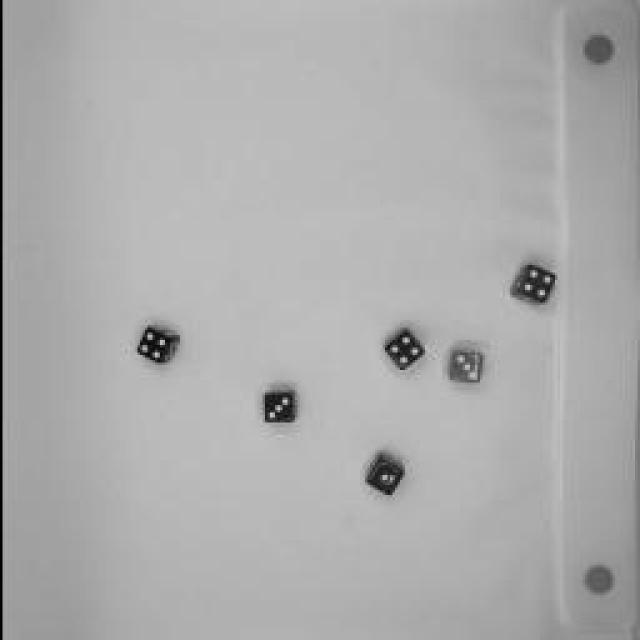dice_1: (352, 448, 408, 502)
dice_3: (438, 345, 488, 390), (256, 385, 304, 430)
dice_4: (501, 258, 559, 312), (128, 318, 182, 368), (374, 324, 424, 376)
